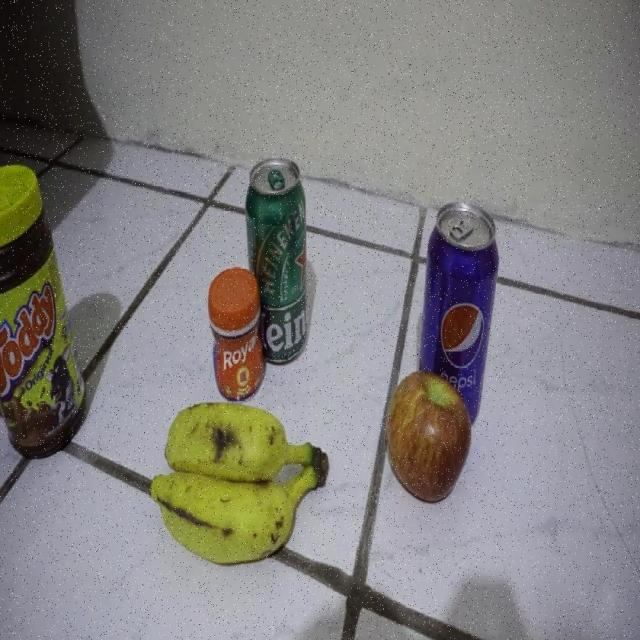Apple: (385, 371, 473, 504)
Banana: (150, 403, 330, 569)
BeerCan: (243, 156, 310, 366)
ChocolatePowder: (0, 158, 87, 460)
SodaCan: (421, 201, 500, 428)
Yeast: (208, 266, 266, 404)
